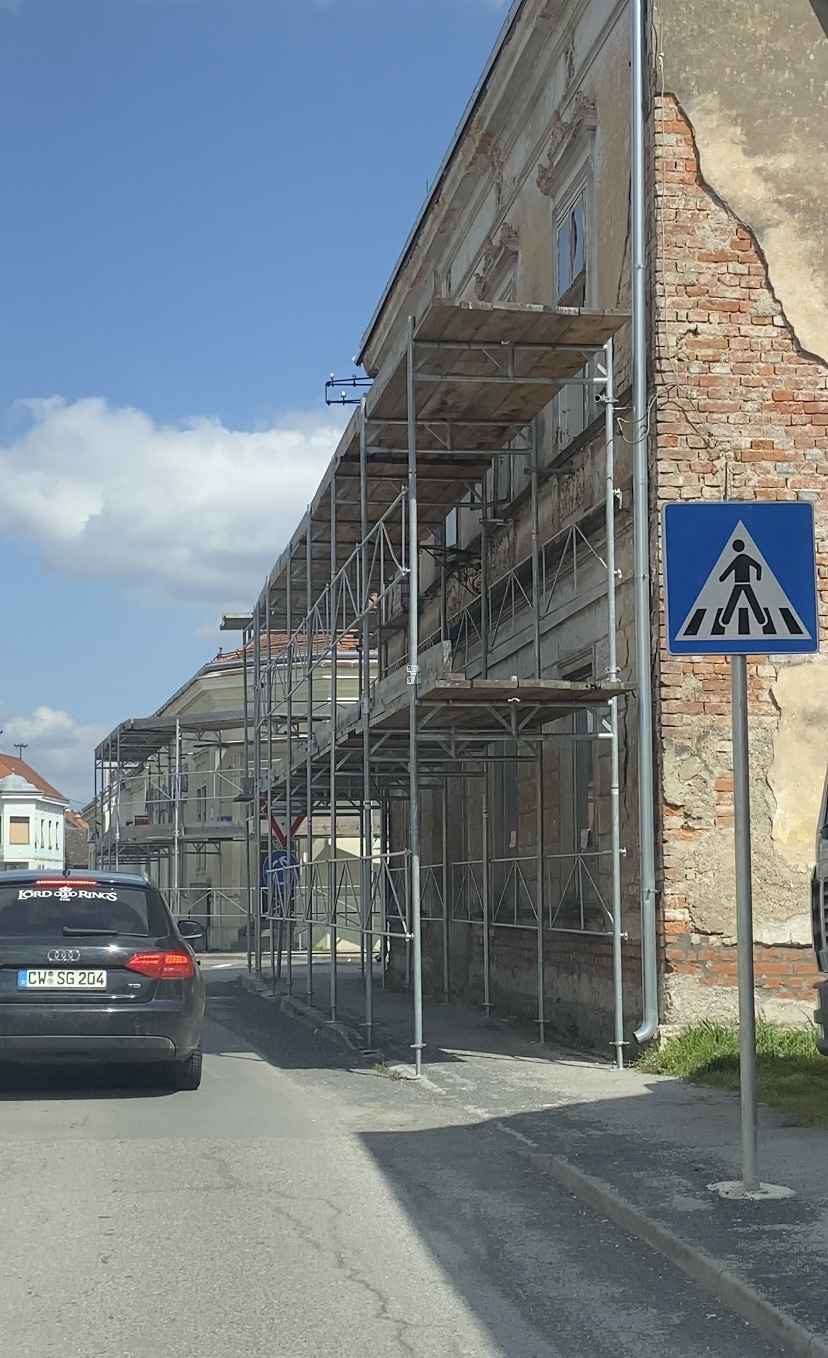Pješački prijelaz: (662, 501, 820, 659)
